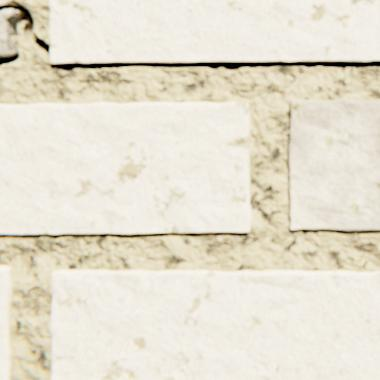brick: (52, 269, 379, 379), (0, 102, 251, 233), (51, 0, 379, 63), (289, 99, 379, 229), (0, 265, 13, 379)
broken_brick: (0, 9, 14, 56), (0, 0, 14, 5)
crack: (0, 0, 379, 72)
